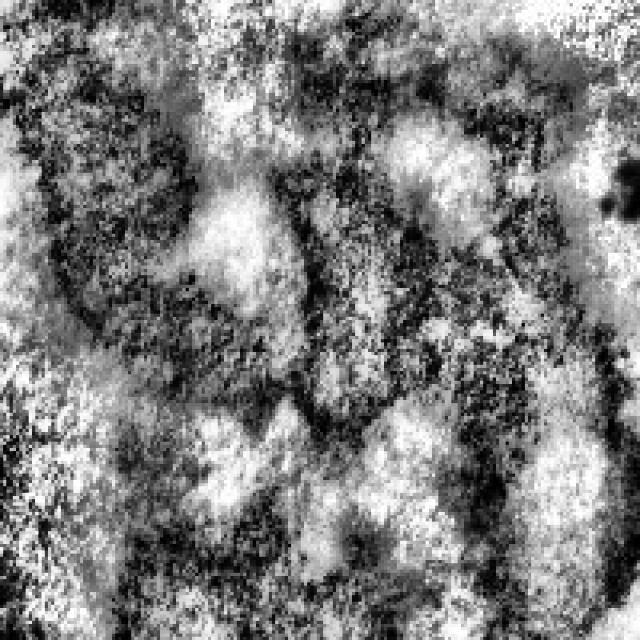Scratches: (282, 0, 572, 458), (0, 0, 272, 445), (87, 474, 410, 634)
